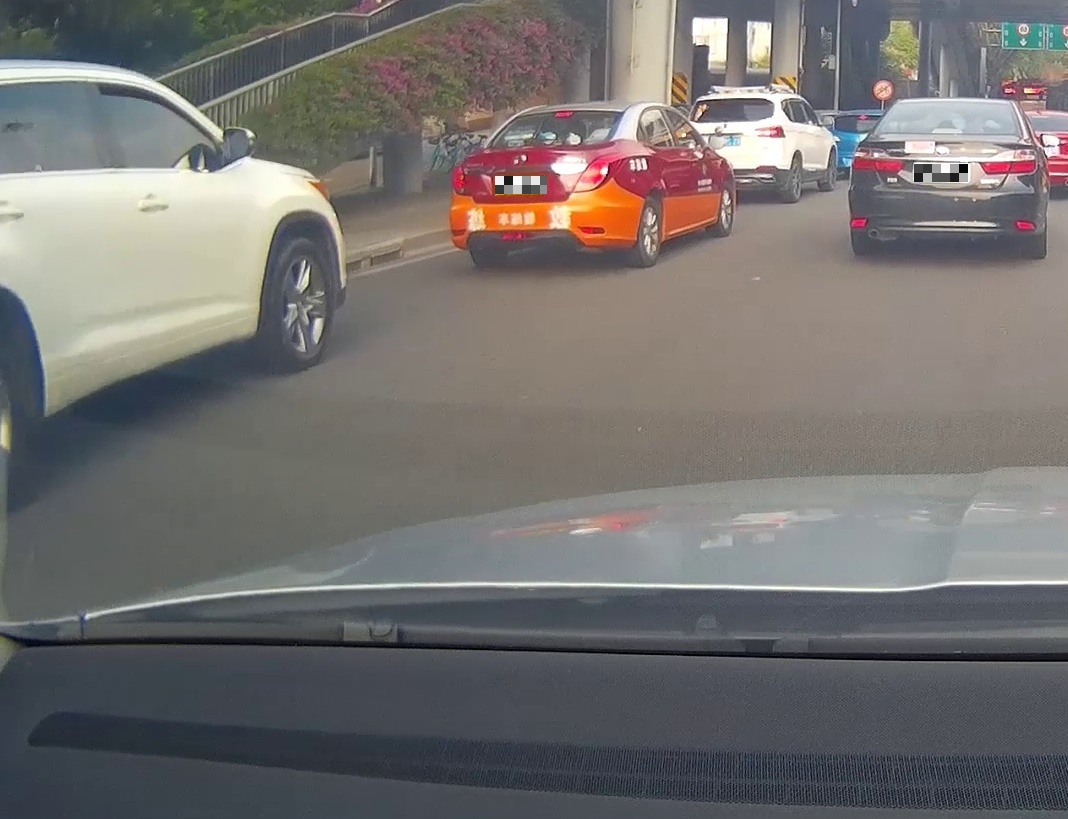L_light: (851, 147, 906, 172), (454, 164, 472, 196)
R_light: (571, 152, 628, 192), (979, 149, 1039, 175)
T_light: (932, 126, 962, 134), (555, 111, 573, 117)
day-brake: (448, 101, 636, 264)
day-no: (848, 98, 1048, 258)
plate_1: (495, 176, 547, 194)
plate_2: (914, 164, 968, 182)
